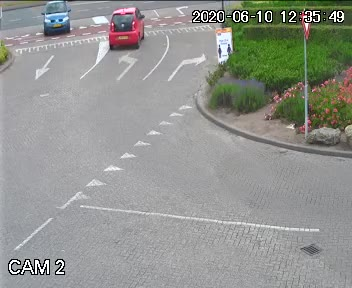car: (107, 3, 146, 53), (39, 0, 72, 38)
